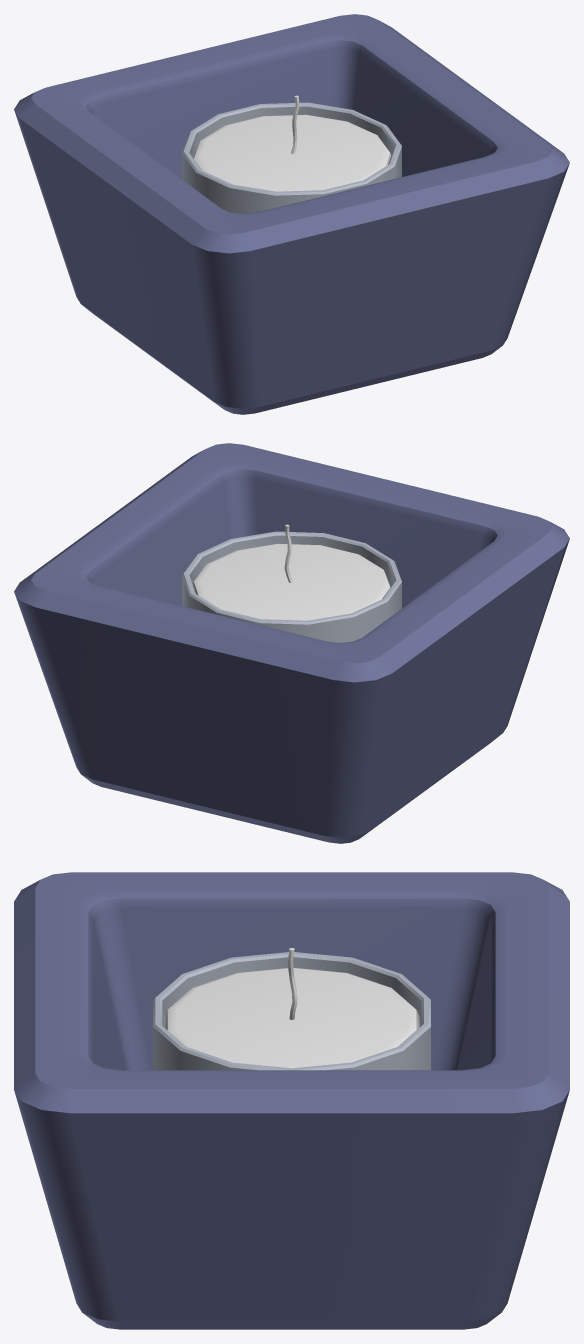
File: Kerze01.fbx
3 renders of one model, top to bottom at view 1: azimuth 30°, elevation 25°; view 2: azimuth 150°, elevation 25°; view 3: azimuth 270°, elevation 25°, orthographic. The views are drawn at different scales.
Visible parts, largest first — view 1: Kerze01; view 2: Kerze01; view 3: Kerze01.
Boxes of the visible parts, x1,y1,x2,y2 form: Kerze01: (14,14,569,414); Kerze01: (14,443,569,843); Kerze01: (14,872,569,1329).
Bounding box in the file's own units: 37.4 × 22.24 × 37.4.
